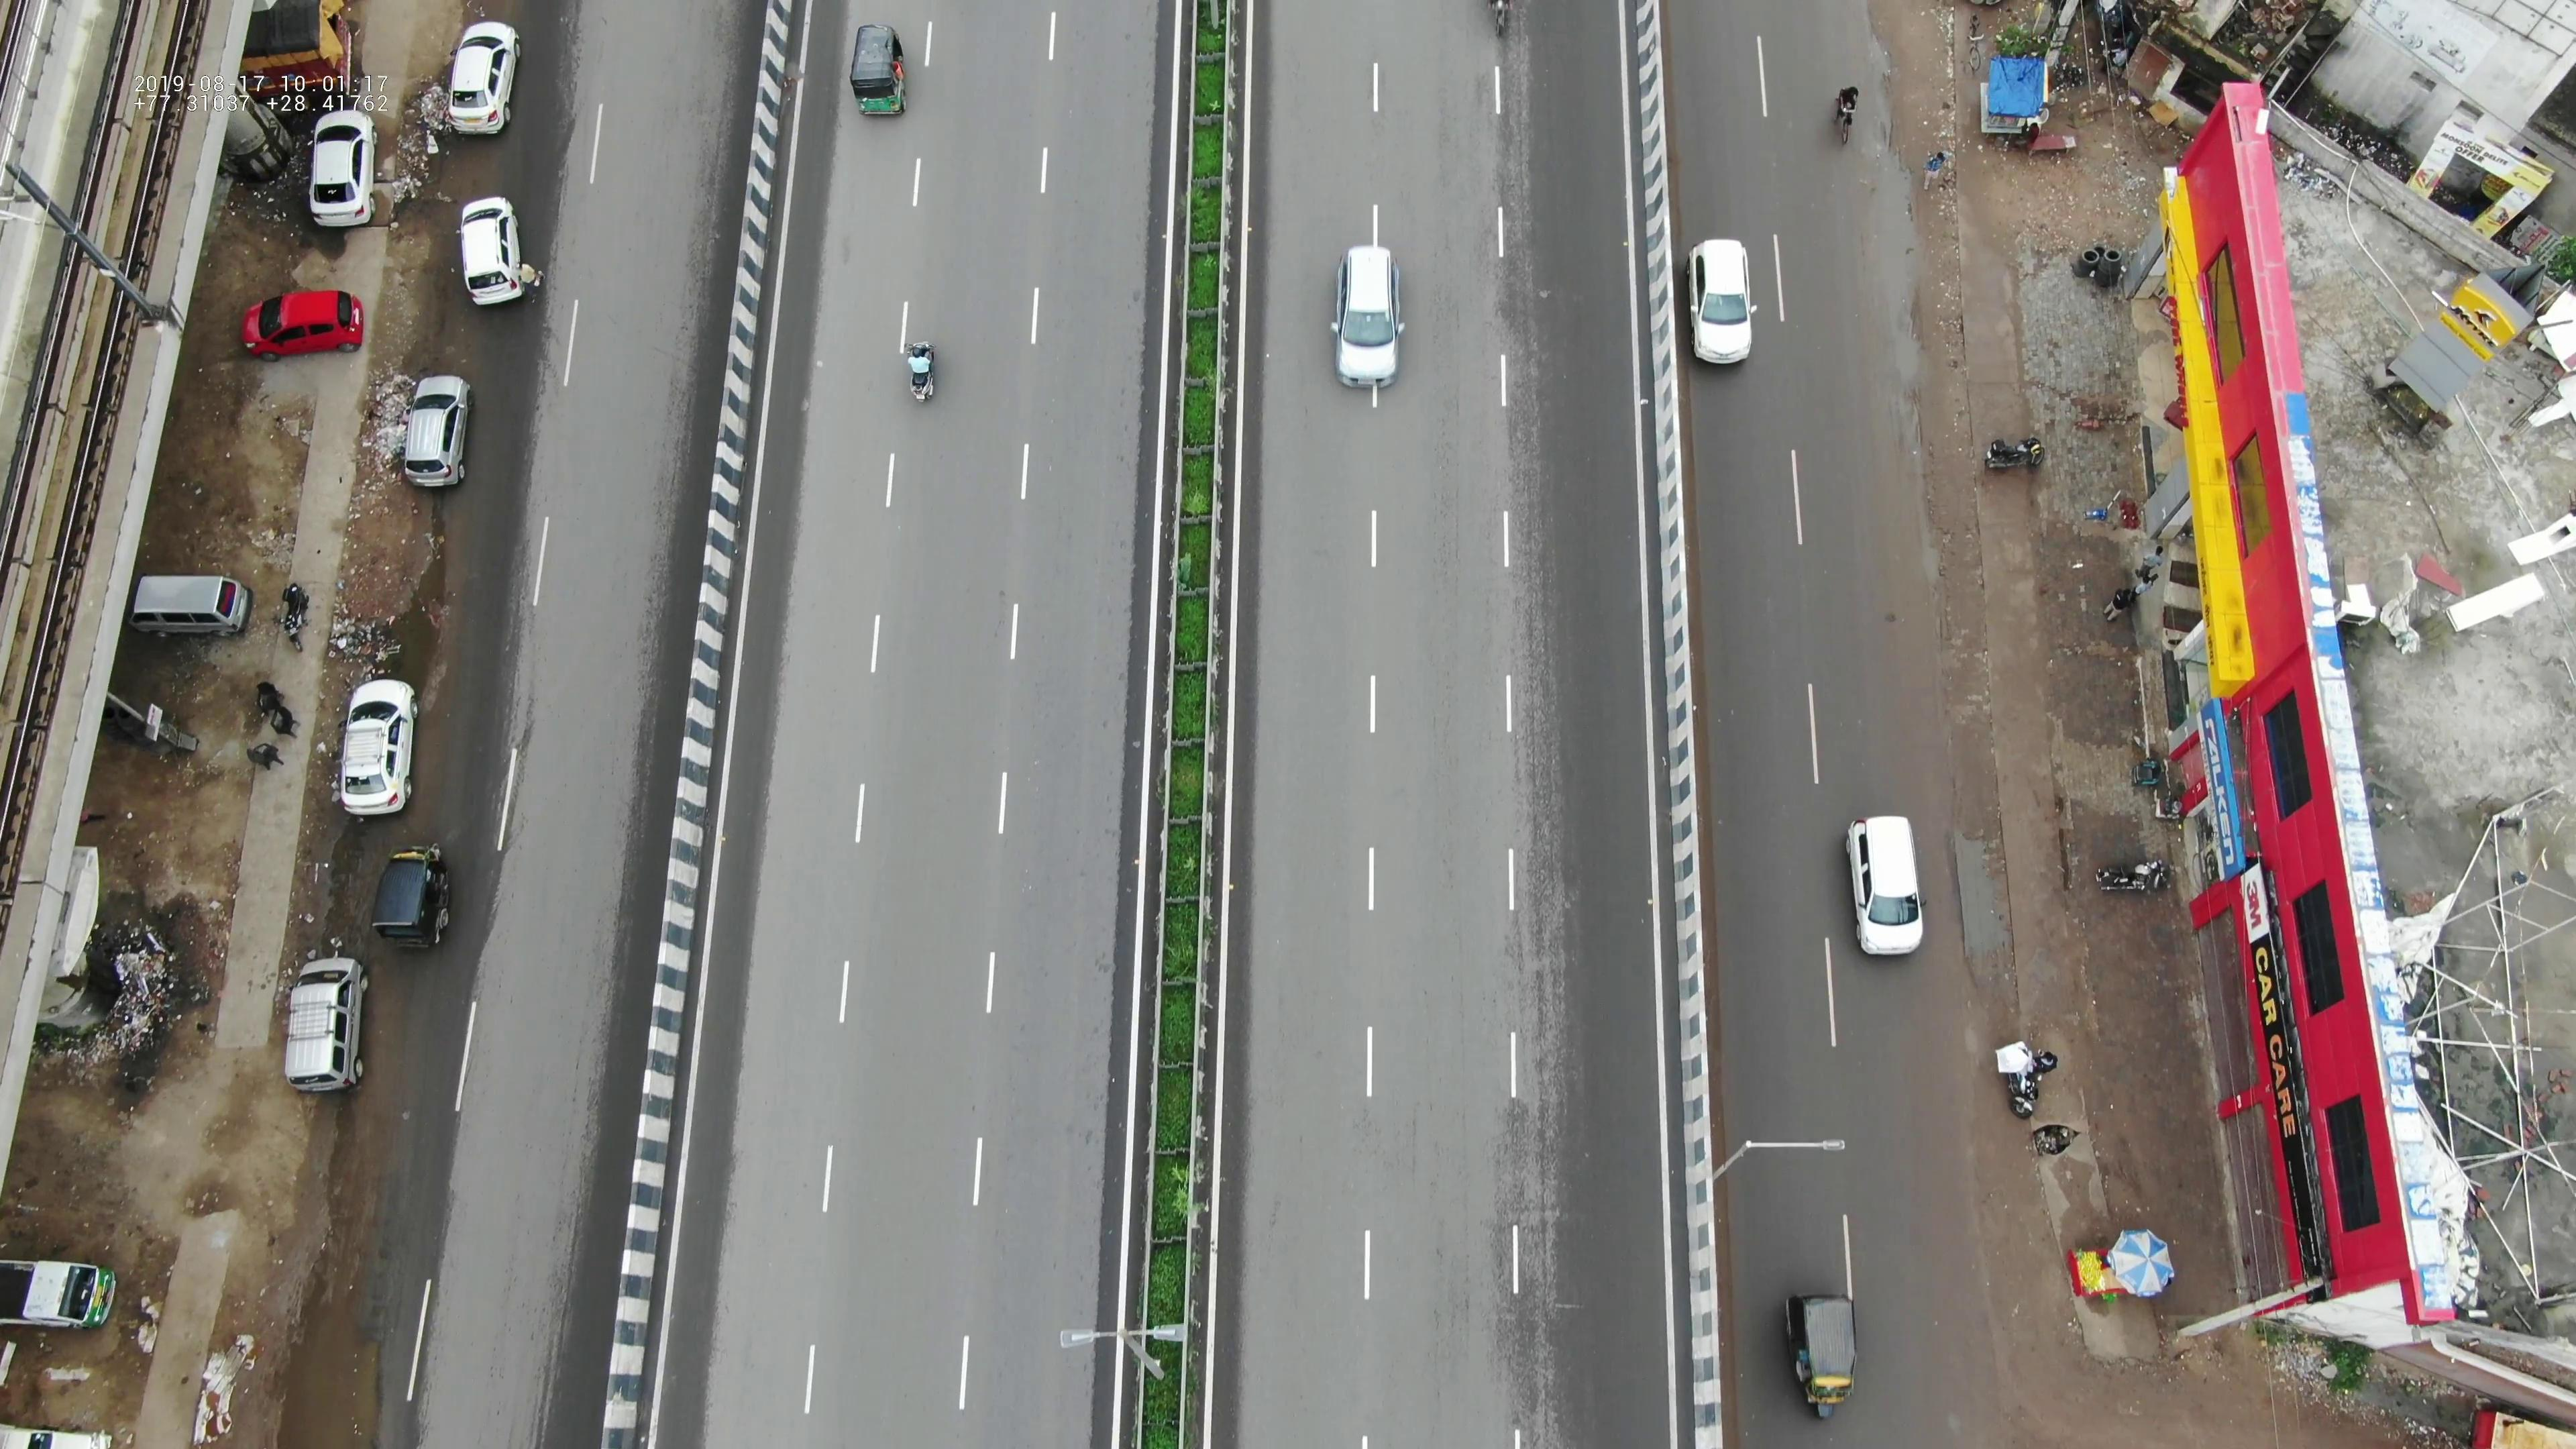Road_side_garbage: (357, 384, 403, 497), (389, 99, 444, 177)
Waterlogging: (368, 600, 456, 678), (317, 839, 363, 939)
